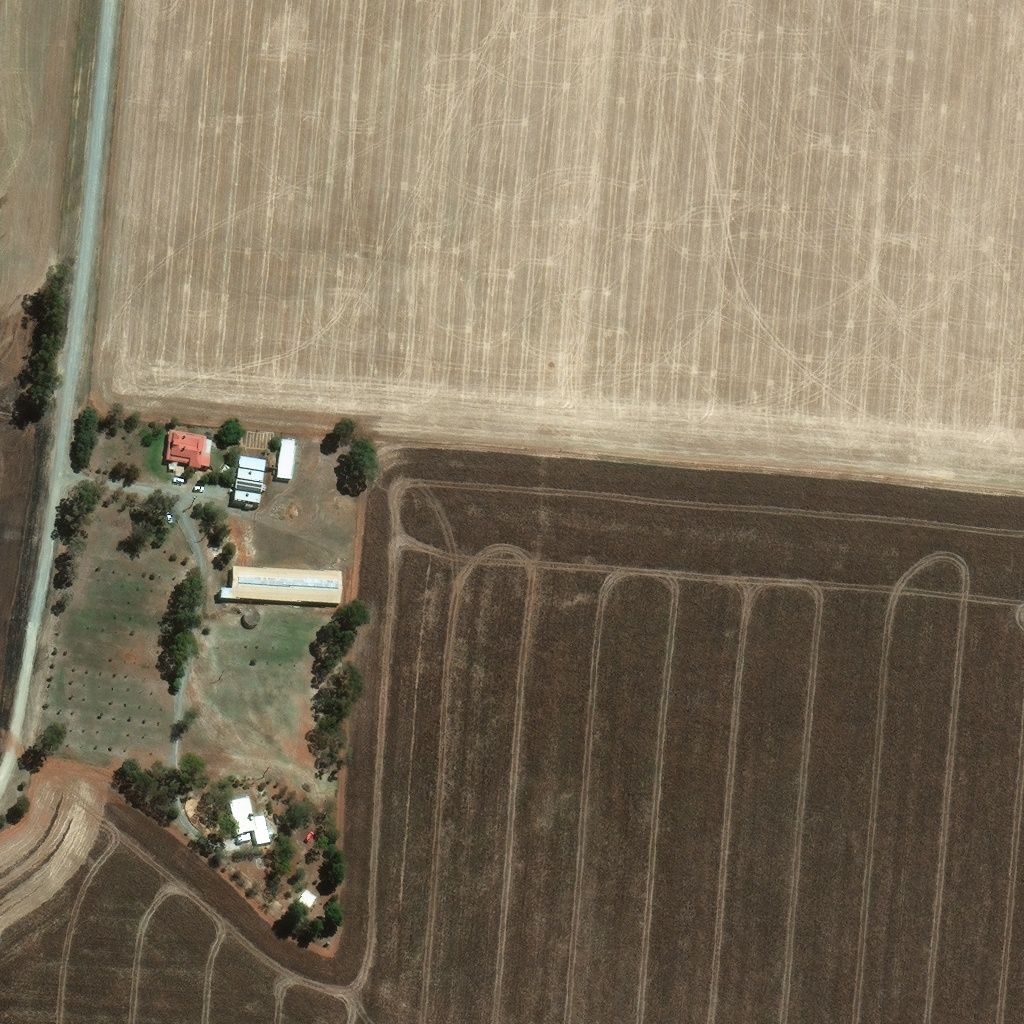0 no-damage: (222, 562, 344, 598), (230, 793, 272, 840), (166, 426, 213, 464), (235, 452, 267, 502), (277, 435, 298, 476), (298, 887, 318, 907), (245, 601, 262, 618)
